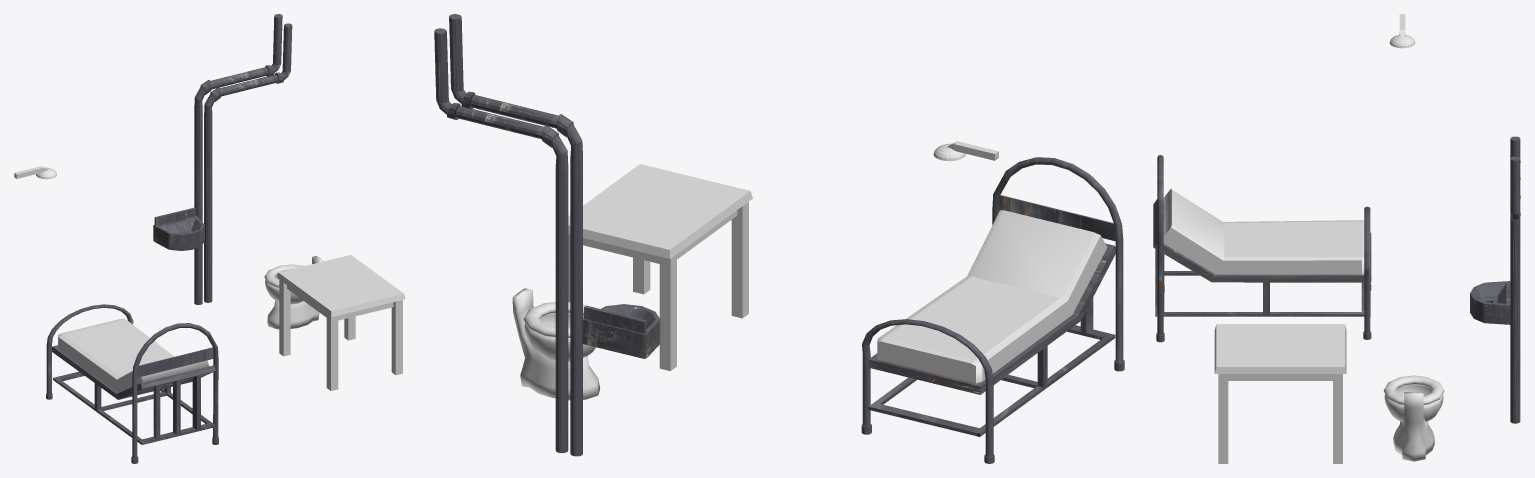
File: Cela.fbx
The picture shows the model from 3 angles, left to right: view 1: azimuth 30°, elevation 25°; view 2: azimuth 150°, elevation 25°; view 3: azimuth 270°, elevation 25°; orthographic projection. The views are drawn at different scales.
Visible parts, largest first — view 1: Cube.002, Plane, Cube.003, Cylinder.006, Cylinder.005, Cylinder.004, Cylinder.002, Cube; view 2: Cube.003, Cube.002, Plane, Cylinder.005, Cylinder.006, Cylinder.002, Cylinder.004, Cube, Cube.001; view 3: Cube.003, Cube.002, Plane, Cylinder.002, Cylinder.006, Cube, Cylinder.004, Cube.001.
Boxes of the visible parts, box(x1,y1,x2,y2) form: Cube.002: box(276, 255, 405, 390); Plane: box(46, 304, 218, 463); Cube.003: box(58, 319, 208, 392); Cylinder.006: box(204, 23, 292, 302); Cylinder.005: box(194, 14, 282, 304); Cylinder.004: box(153, 207, 204, 250); Cylinder.002: box(264, 256, 323, 329); Cube: box(52, 345, 215, 399); Cube.003: box(877, 210, 1107, 383); Cube.002: box(568, 164, 752, 371); Plane: box(861, 157, 1124, 463); Cylinder.005: box(449, 14, 582, 456); Cylinder.006: box(434, 28, 568, 452); Cylinder.002: box(512, 288, 600, 400); Cylinder.004: box(582, 304, 660, 358); Cube: box(868, 243, 1115, 394); Cube.001: box(933, 141, 998, 161); Cube.003: box(1163, 189, 1364, 274); Cube.002: box(1214, 324, 1346, 463); Plane: box(1155, 155, 1371, 342); Cylinder.002: box(1383, 375, 1444, 461); Cylinder.006: box(1510, 156, 1520, 423); Cube: box(1153, 199, 1371, 282); Cylinder.004: box(1470, 281, 1510, 324); Cube.001: box(1389, 14, 1415, 48).
Bounding box in the file's own units: 364 × 290 × 296.
1 material, 1 textured.
